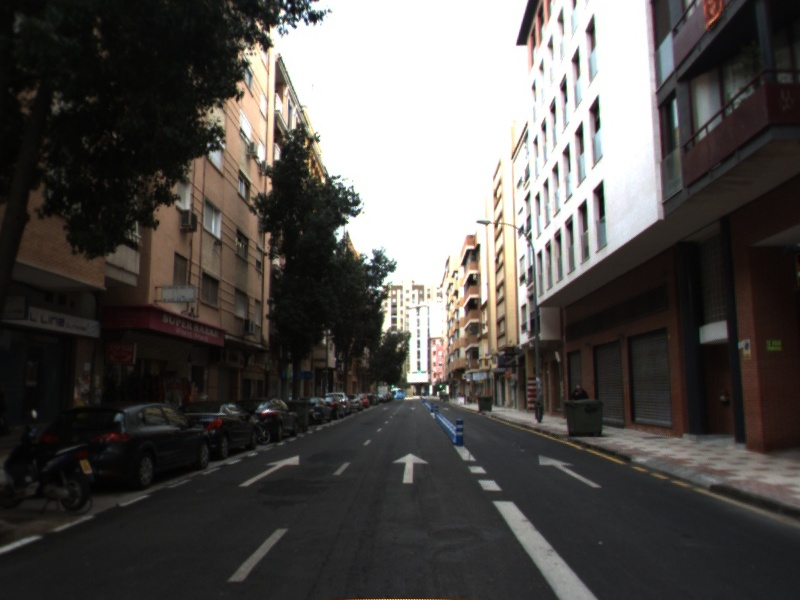STRAIGHT: (537, 453, 604, 490), (236, 453, 302, 489), (390, 451, 431, 485)
